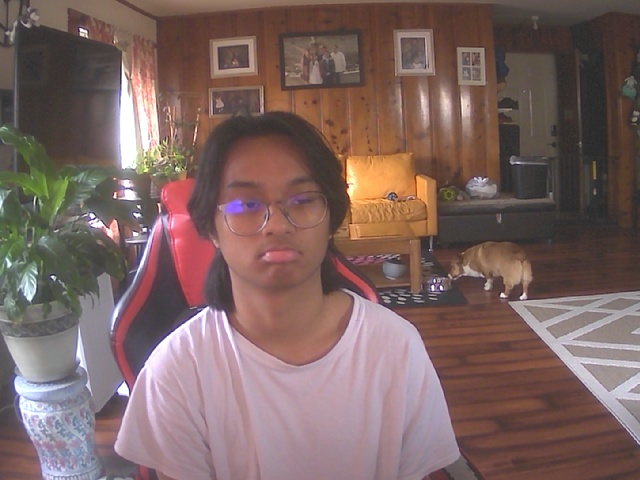sad: (207, 120, 338, 294)
